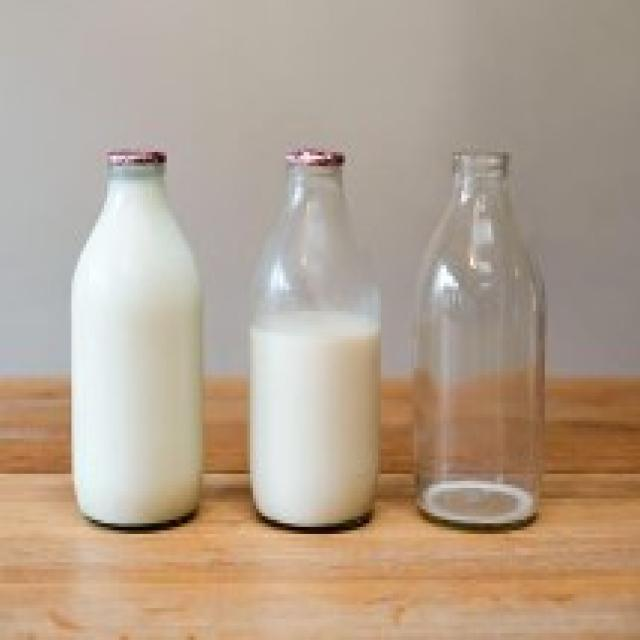electronic: (72, 150, 550, 536)
